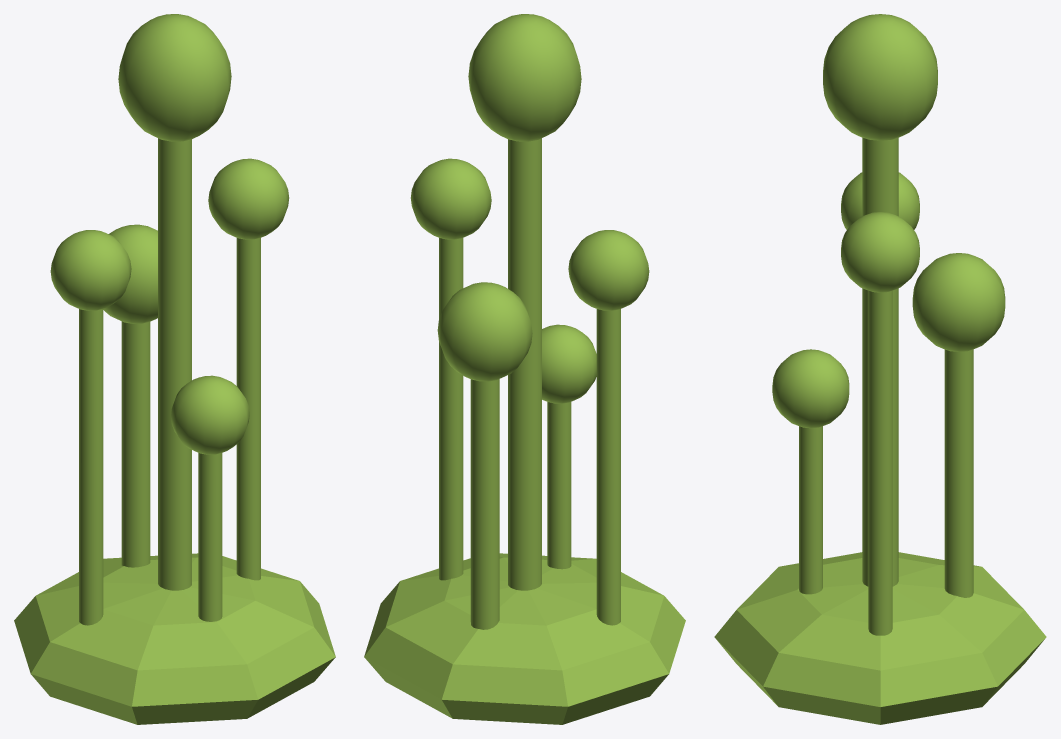
The model's file is poppy3.fbx.
3 renders of one model, left to right at view 1: azimuth 30°, elevation 25°; view 2: azimuth 150°, elevation 25°; view 3: azimuth 270°, elevation 25°, orthographic.
Parts seen in each view (by area): view 1: PoppyBase, Stalk (×4), PoppyHead (×4), PoppyHead1, Stalk1; view 2: PoppyBase, Stalk (×4), PoppyHead (×4), Stalk1, PoppyHead1; view 3: PoppyBase, PoppyHead (×4), Stalk (×3), PoppyHead1, Stalk1.
Part boxes in pixels (x1,y1,x2,y2): PoppyBase: (14, 553, 335, 724); Stalk (×4): (79, 138, 260, 625); PoppyHead (×4): (50, 14, 289, 323); PoppyHead1: (171, 375, 249, 454); Stalk1: (198, 453, 222, 621); PoppyBase: (364, 553, 685, 724); Stalk (×4): (439, 138, 620, 629); PoppyHead (×4): (410, 14, 649, 381); Stalk1: (547, 402, 571, 569); PoppyHead1: (542, 324, 596, 403); PoppyBase: (714, 552, 1046, 724); PoppyHead (×4): (823, 14, 1005, 351); Stalk (×3): (862, 137, 973, 635); PoppyHead1: (772, 349, 849, 428); Stalk1: (799, 426, 822, 594).
Bounding box in the file's own units: 2.7 × 6.02 × 2.7.
